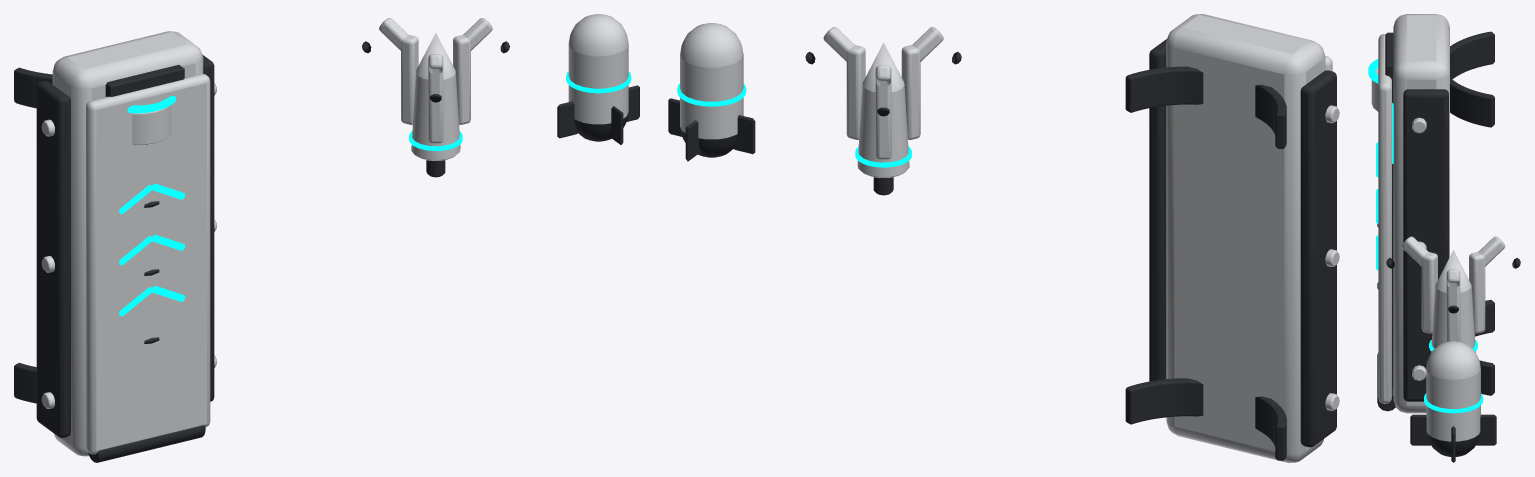
Rendered from gadget-launcher.glb.
The picture shows the model from 3 angles, left to right: view 1: azimuth 30°, elevation 25°; view 2: azimuth 150°, elevation 25°; view 3: azimuth 270°, elevation 25°; orthographic projection. The views are drawn at different scales.
Visible parts, largest first — view 1: LauncherHatch, LauncherBase, NetPod, HookHead, HookProng1, LauncherBarrel, HookProng0, HookProng2; view 2: LauncherBase, NetPod, HookHead, HookProng0, HookProng2, HookProng1; view 3: LauncherBase, NetPod, LauncherHatch, HookHead, HookProng1, HookProng2, HookProng0, LauncherBarrel.
Boxes of the visible parts, x1,y1,x2,y2 form: LauncherHatch: [86, 74, 210, 462]; LauncherBase: [14, 31, 216, 456]; NetPod: [557, 14, 639, 144]; HookHead: [409, 33, 462, 177]; HookProng1: [362, 18, 418, 124]; LauncherBarrel: [127, 96, 175, 343]; HookProng0: [453, 18, 509, 124]; HookProng2: [428, 54, 443, 143]; LauncherBase: [1125, 14, 1339, 462]; NetPod: [668, 23, 755, 161]; HookHead: [855, 42, 911, 195]; HookProng0: [805, 27, 865, 139]; HookProng2: [901, 27, 961, 139]; HookProng1: [875, 65, 891, 159]; LauncherBase: [1385, 14, 1494, 413]; NetPod: [1410, 341, 1496, 462]; LauncherHatch: [1376, 34, 1395, 411]; HookHead: [1429, 250, 1477, 352]; HookProng1: [1469, 236, 1520, 333]; HookProng2: [1386, 236, 1437, 333]; HookProng0: [1446, 269, 1460, 341]; LauncherBarrel: [1368, 59, 1378, 289].
Size of the model in its own units: 0.566 by 0.34 by 0.1341.
